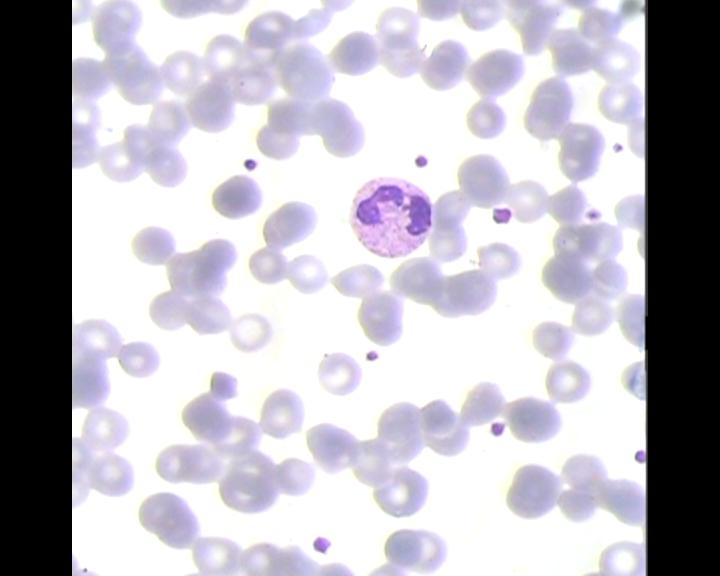neut: (347, 171, 436, 257)
